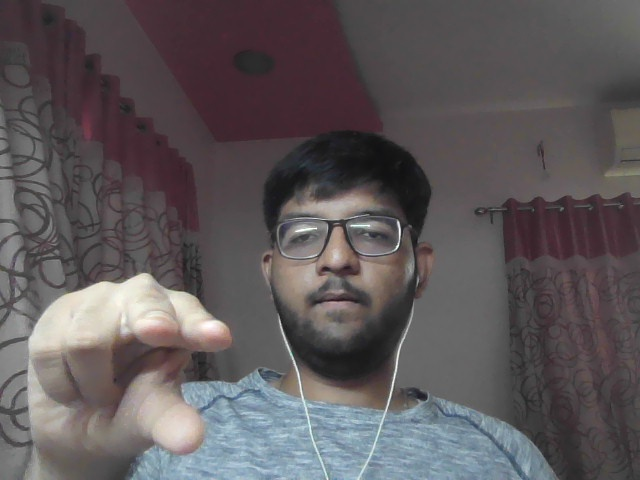ના: (5, 261, 254, 476)
